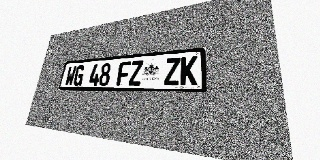4: (88, 64, 102, 86)
8: (98, 63, 112, 86)
F: (116, 61, 131, 86)
G: (72, 65, 85, 86)
K: (180, 56, 197, 85)
W: (64, 66, 77, 86)
Z: (164, 57, 180, 86), (128, 60, 143, 86)
